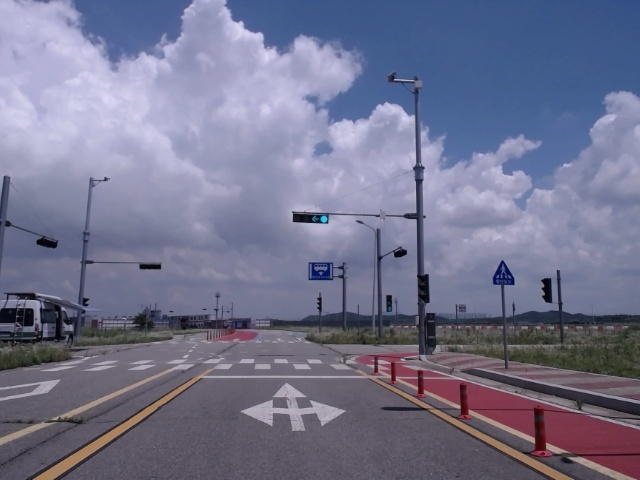all_green_4: (292, 210, 329, 222)
